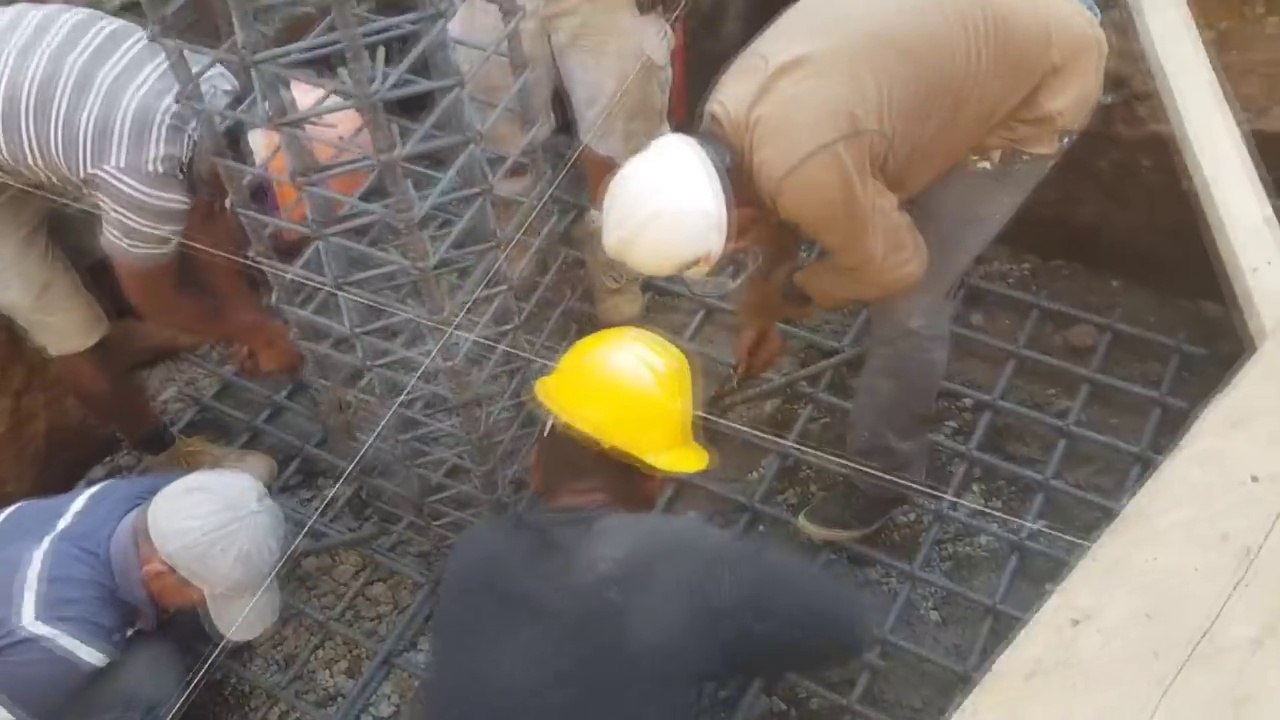helmet: (538, 322, 705, 480), (239, 63, 377, 215), (607, 129, 727, 287)
helmet-off: (137, 475, 296, 643)
helmet-on: (508, 317, 712, 538), (178, 56, 378, 254), (595, 113, 804, 293)
person: (586, 3, 1111, 519), (423, 319, 866, 720), (0, 1, 377, 464), (0, 466, 301, 714), (458, 0, 685, 303)
